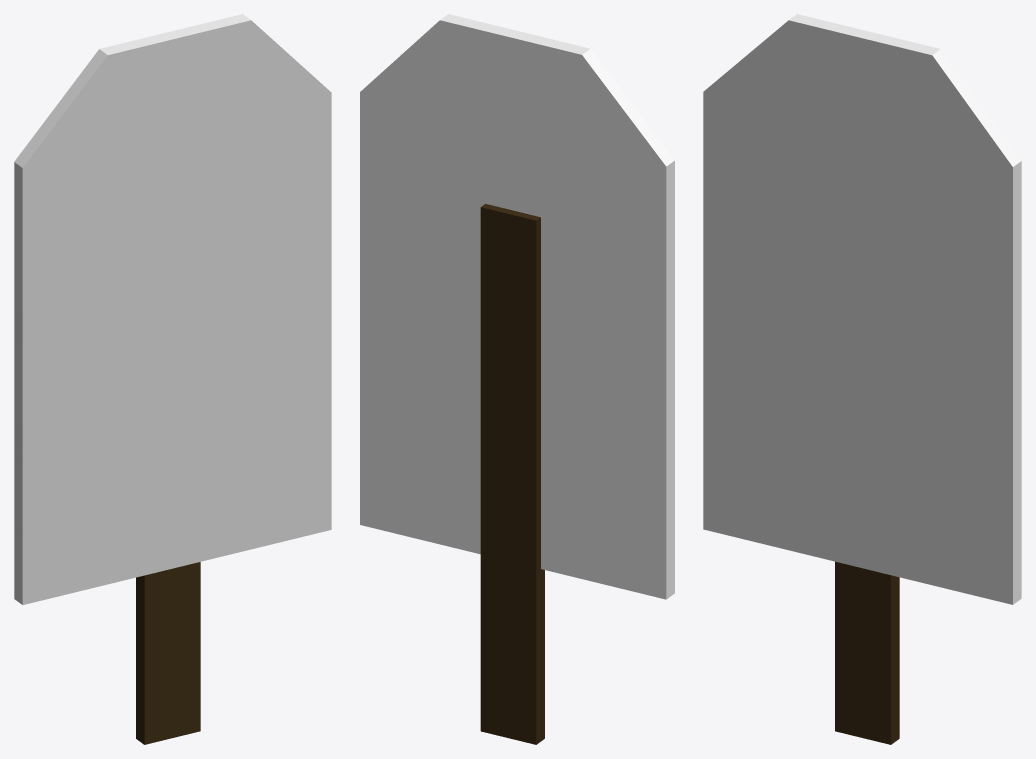
Rendered from Cowboy2.fbx.
3 renders of one model, left to right at view 1: azimuth 30°, elevation 25°; view 2: azimuth 150°, elevation 25°; view 3: azimuth 330°, elevation 25°, orthographic.
Visible parts, largest first — view 1: Cube; view 2: Cube; view 3: Cube.
Boxes of the visible parts, x1,y1,x2,y2 form: Cube: [14, 14, 331, 744]; Cube: [360, 14, 674, 744]; Cube: [703, 14, 1021, 744].
Size of the model in its own units: 302 by 656 by 22.44.
